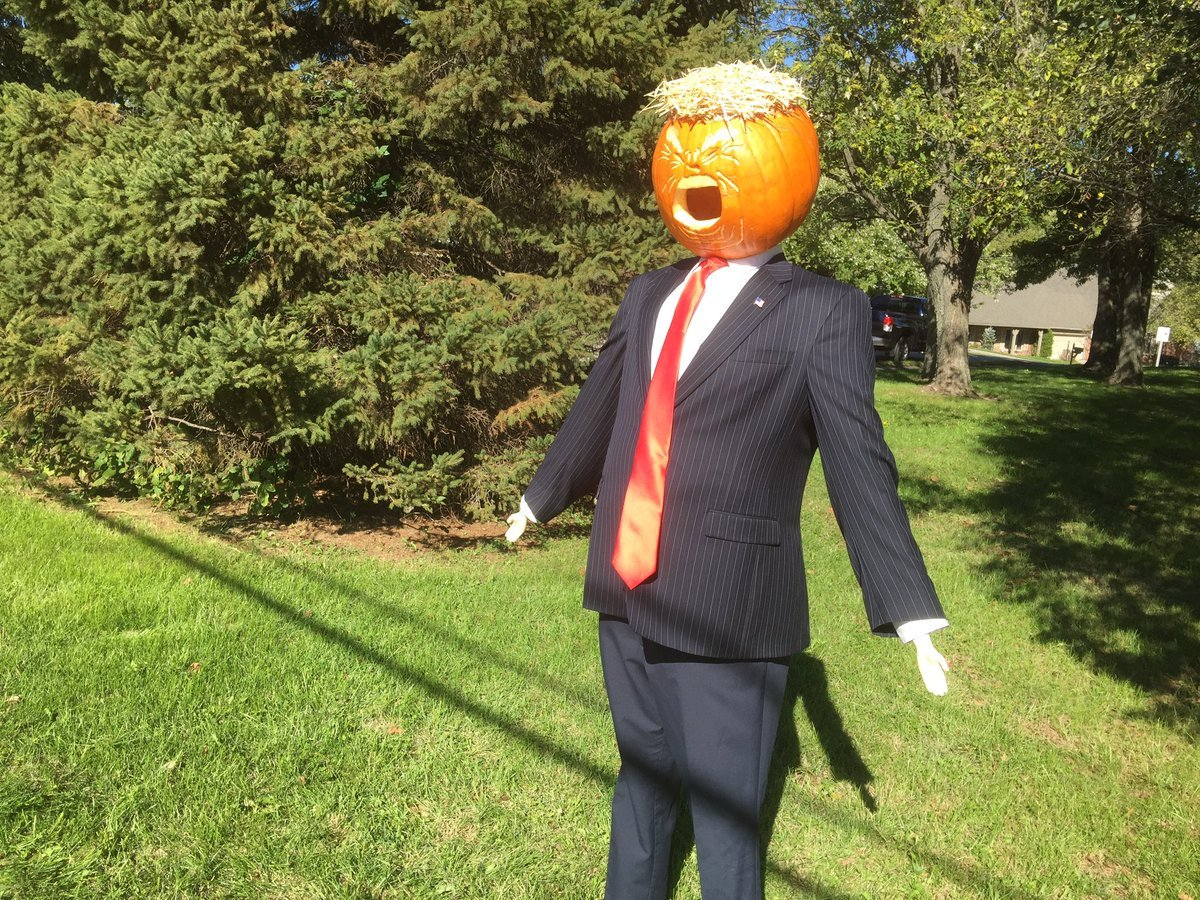person-like: (489, 47, 965, 900)
